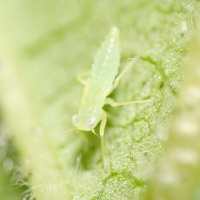insect: (72, 26, 151, 168)
